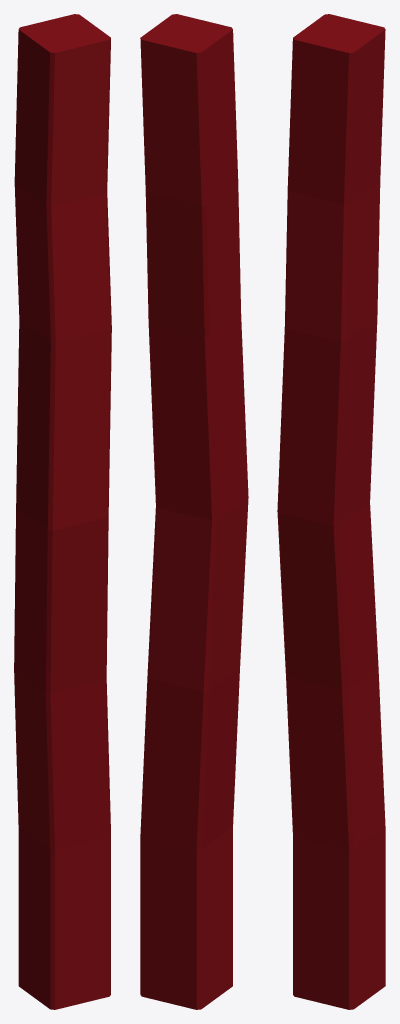
File: SM_MH_01_Wood_Pillar_03a.fbx
The picture shows the model from 3 angles, left to right: view 1: azimuth 30°, elevation 25°; view 2: azimuth 150°, elevation 25°; view 3: azimuth 330°, elevation 25°; orthographic projection.
Parts seen in each view (by area): view 1: SM_MH_01_Wood_Pillar_03a_LOD0; view 2: SM_MH_01_Wood_Pillar_03a_LOD0; view 3: SM_MH_01_Wood_Pillar_03a_LOD0.
Part boxes in pixels (x1=…): SM_MH_01_Wood_Pillar_03a_LOD0: x1=14, y1=14, x2=111, y2=1009; SM_MH_01_Wood_Pillar_03a_LOD0: x1=140, y1=14, x2=248, y2=1009; SM_MH_01_Wood_Pillar_03a_LOD0: x1=277, y1=14, x2=385, y2=1009.
Size of what is drawn, in the model's own units: 22.95 by 300 by 23.71.
